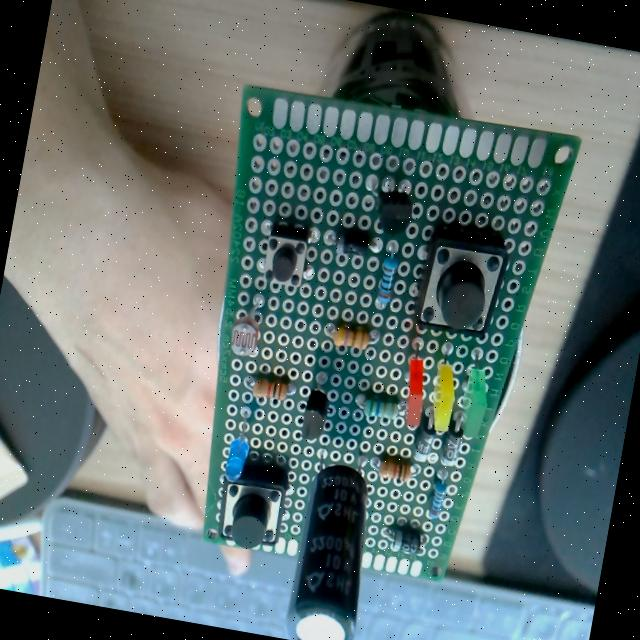Electrolytic capacitor: (284, 459, 382, 640)
cds: (227, 294, 267, 359)
diode: (329, 230, 381, 263), (411, 412, 439, 464), (384, 524, 428, 556), (439, 419, 465, 468)
led: (456, 364, 493, 440), (221, 407, 257, 484), (396, 353, 432, 430), (425, 359, 461, 434)
resistor: (376, 250, 400, 306), (328, 322, 372, 352), (251, 376, 289, 404), (361, 395, 398, 421), (378, 457, 412, 483), (427, 477, 448, 519)
switch: (412, 226, 509, 342), (213, 458, 292, 553), (259, 222, 312, 292)
transistor: (358, 170, 417, 240), (299, 370, 335, 441)
